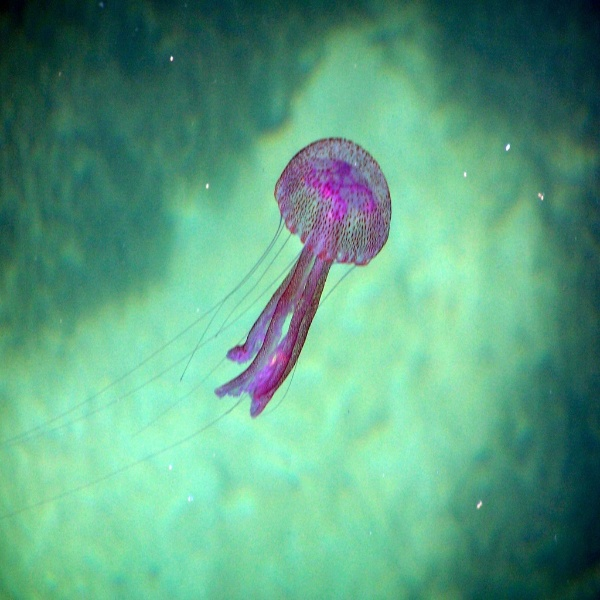Jellyfish: (0, 136, 391, 520)
